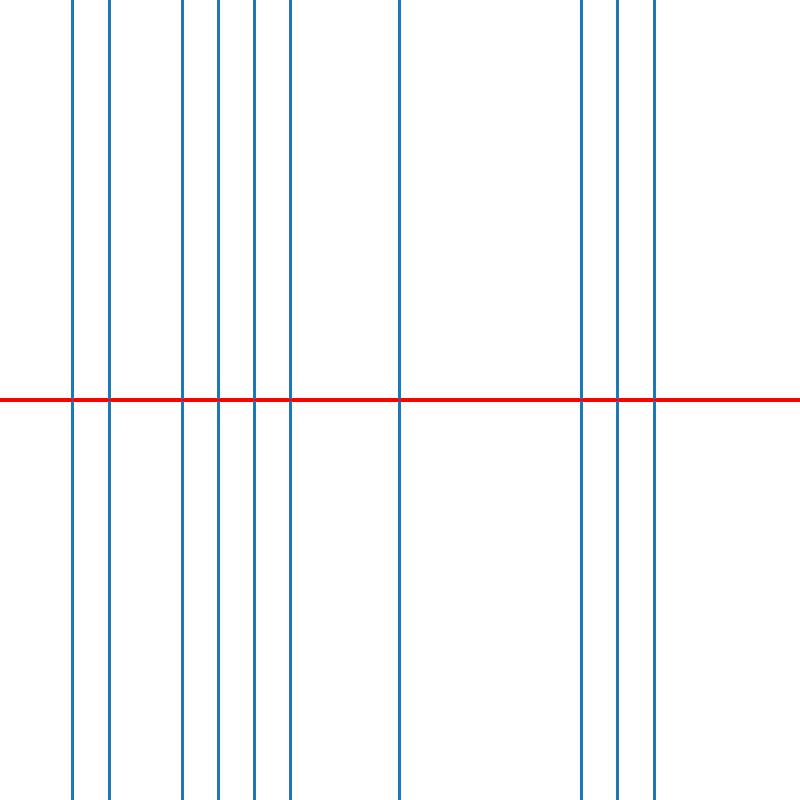root: (250, 396, 258, 404), (650, 396, 658, 404), (178, 396, 185, 404), (287, 396, 294, 404), (614, 396, 621, 404), (396, 396, 403, 404), (69, 396, 76, 404), (105, 396, 112, 404), (214, 396, 221, 404), (578, 396, 585, 404)
